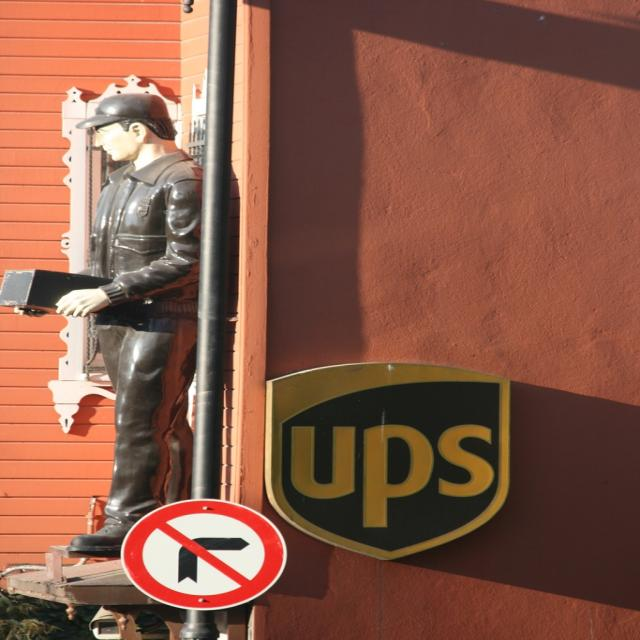ups: (270, 362, 514, 563)
